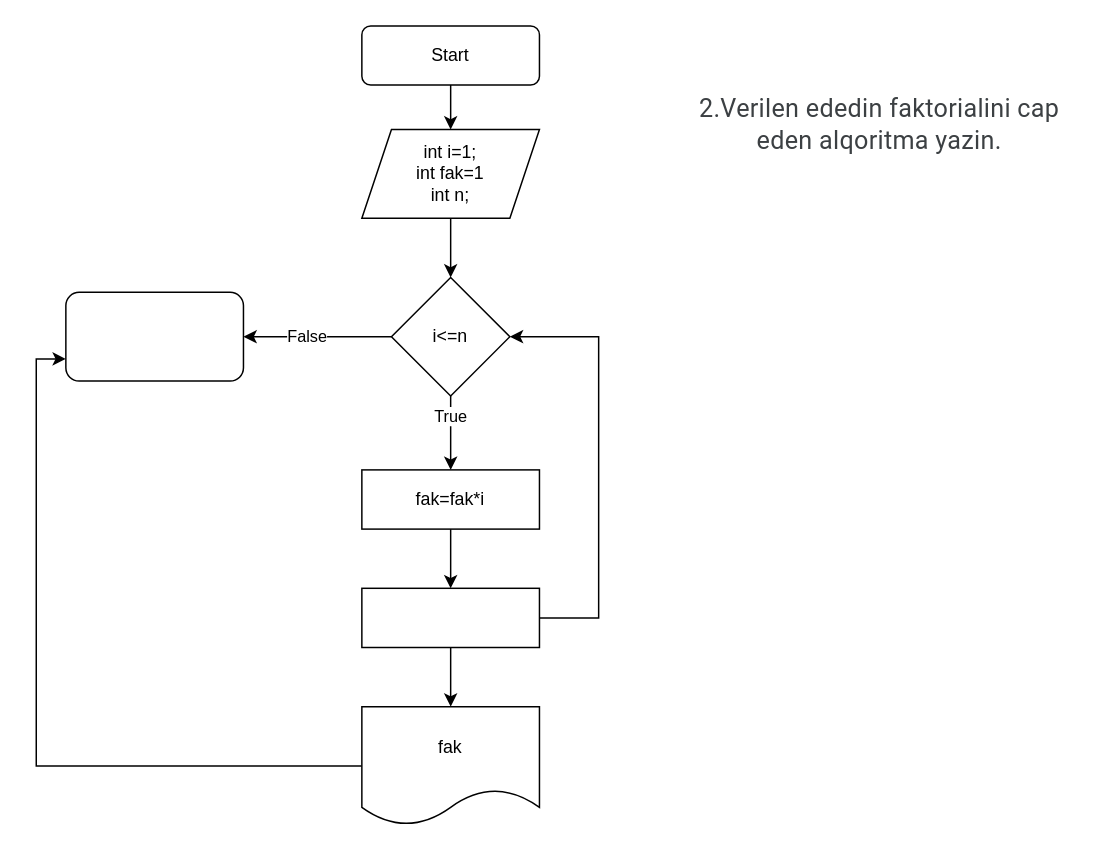
The diagram is 1098 pixels wide and 851 high, and some of its shapes have lost their labels. Each missing label, with the centre of its shape:
"End" belongs at pixel 153 336.
"i++" belongs at pixel 449 617.
